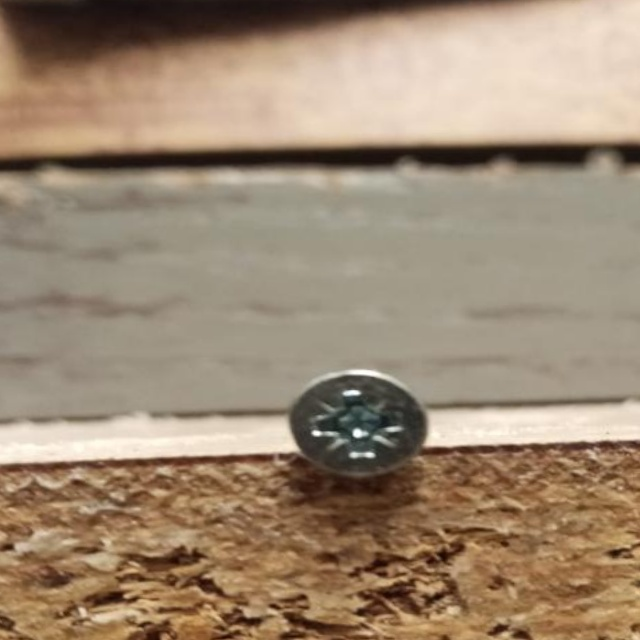pozidriv: (288, 369, 429, 478)
